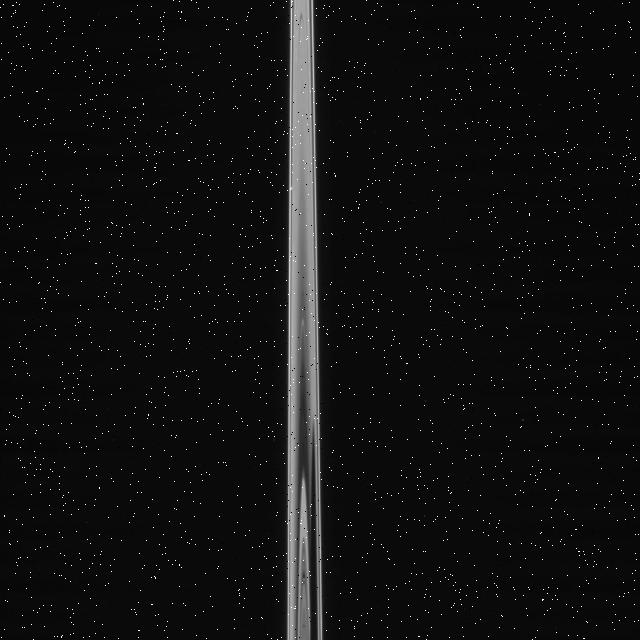Saturn: (286, 0, 326, 640)
